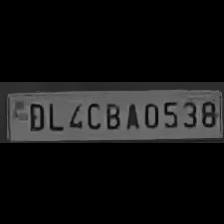0: (140, 98, 160, 128)
3: (180, 96, 196, 128)
4: (64, 98, 84, 130)
5: (160, 97, 178, 128)
8: (198, 96, 218, 128)
A: (122, 98, 140, 130)
B: (102, 98, 122, 130)
C: (84, 98, 103, 130)
D: (24, 99, 46, 131)
L: (46, 98, 62, 130)
